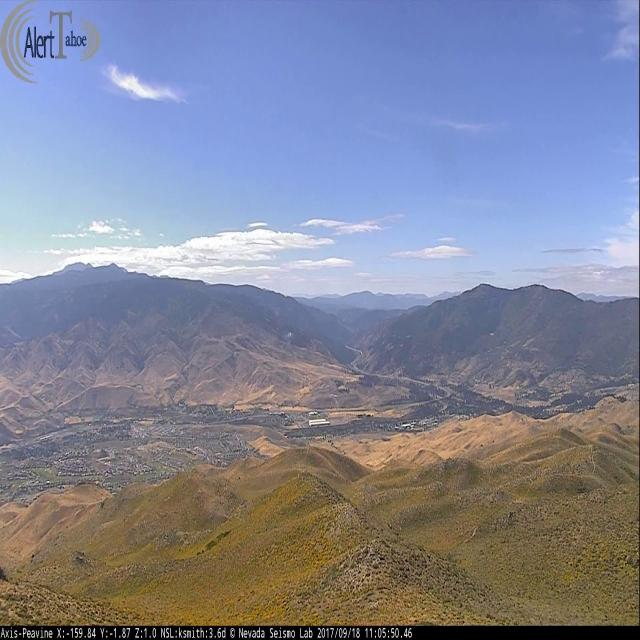smoke: (284, 330, 294, 337)
